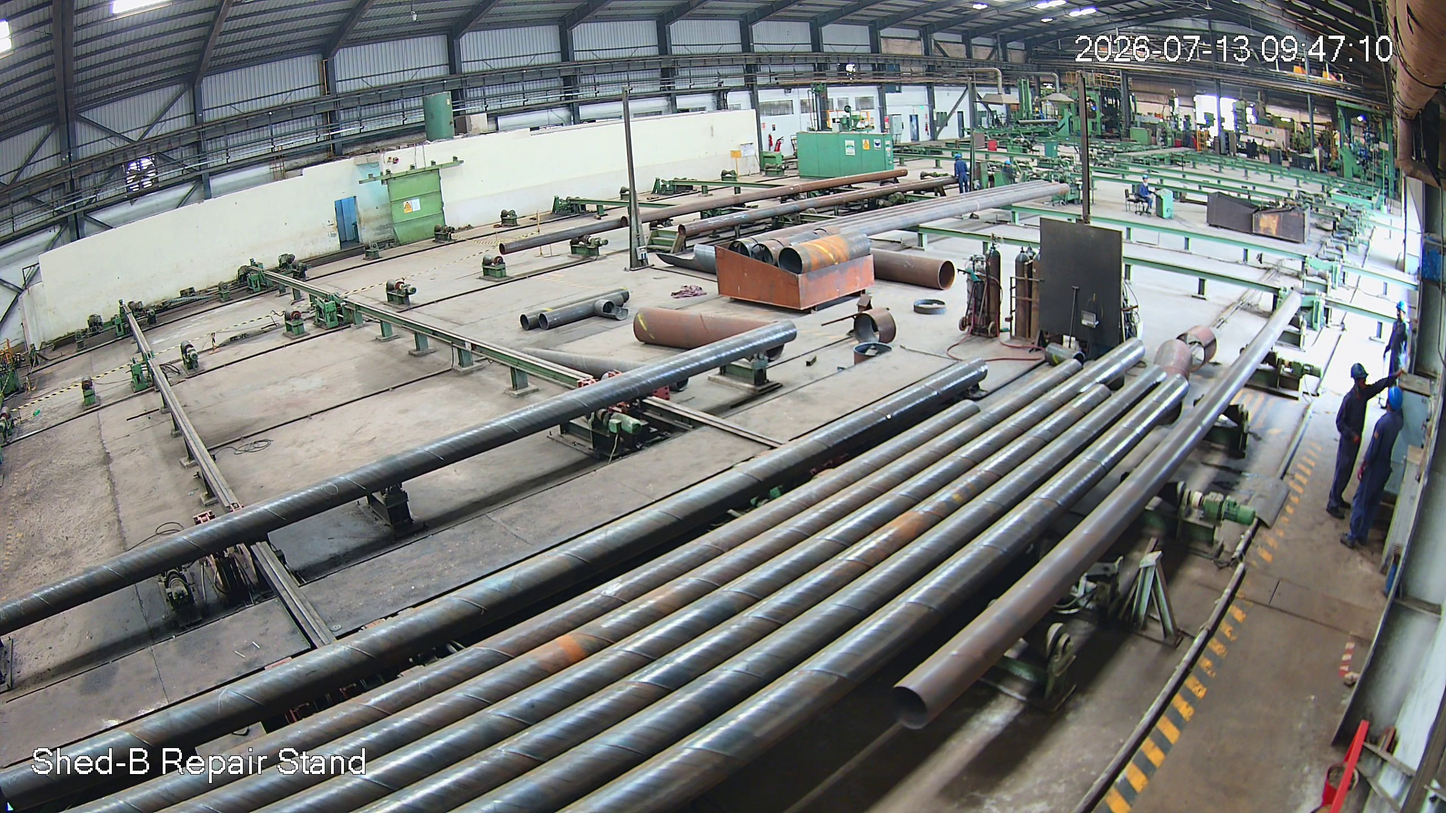Helmet: (1345, 357, 1381, 398), (1385, 379, 1411, 418)
Person: (1347, 386, 1412, 557), (1320, 362, 1382, 524)
